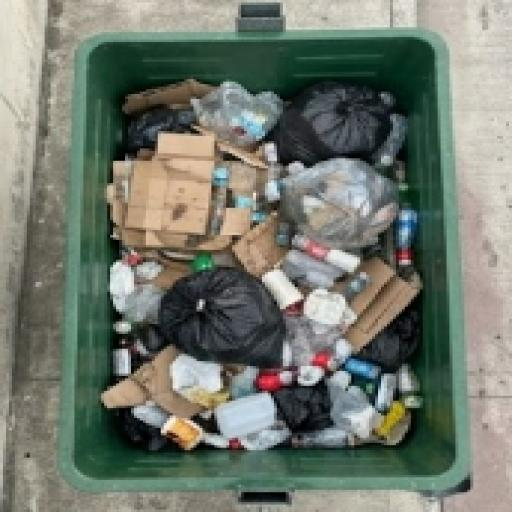Contenedor_Lleno: (24, 27, 470, 495)
